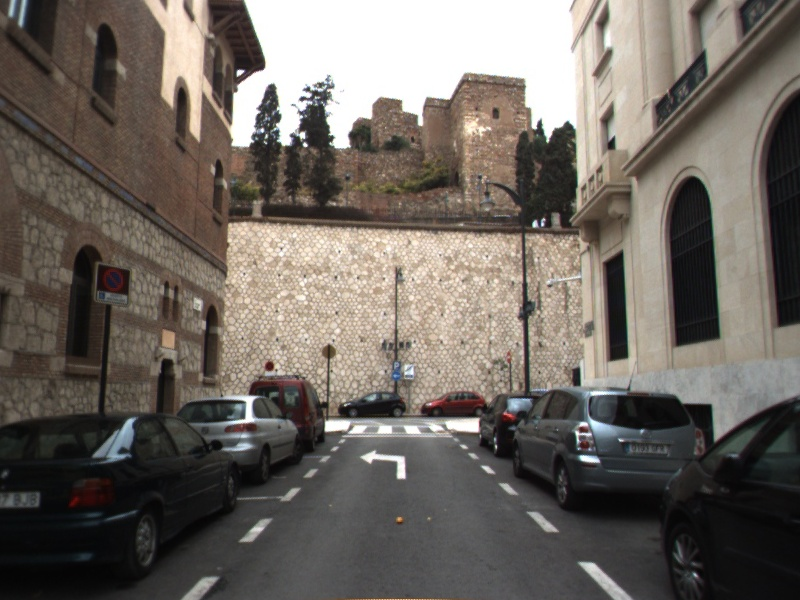LEFT: (358, 447, 408, 481)
